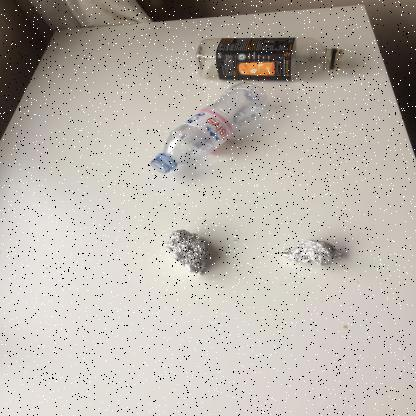metal: (162, 228, 210, 276), (278, 238, 344, 268)
plastic: (150, 82, 269, 174), (194, 36, 344, 82)
